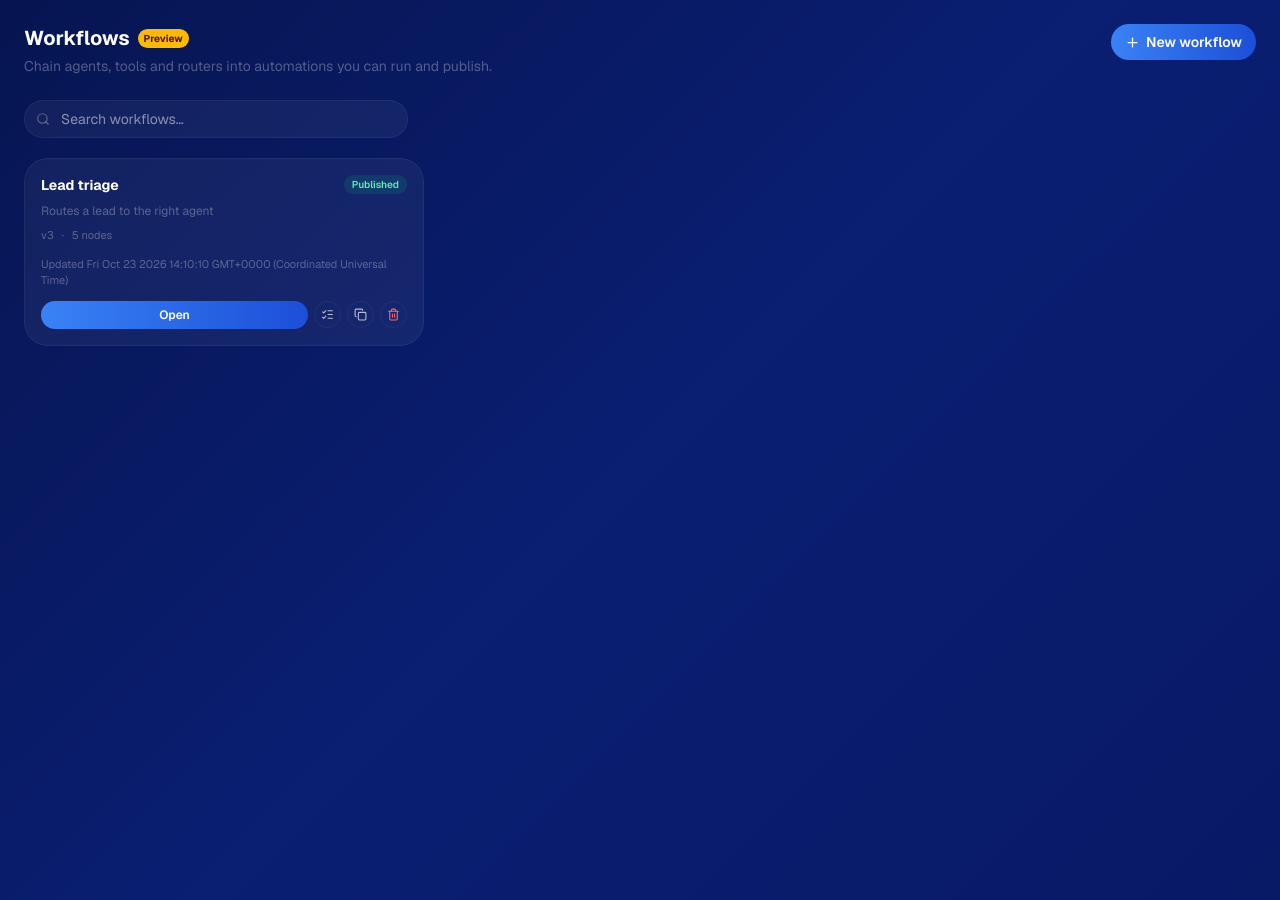
Test: WorkflowsPage › submits the create dialog with Enter from the name field
Expected: the heading "Lead triage" is shown, x1=41 y1=176 x2=119 y2=194
Click the button "New workflow" at (1184, 42), box x1=1111 y1=24 x2=1256 y2=60
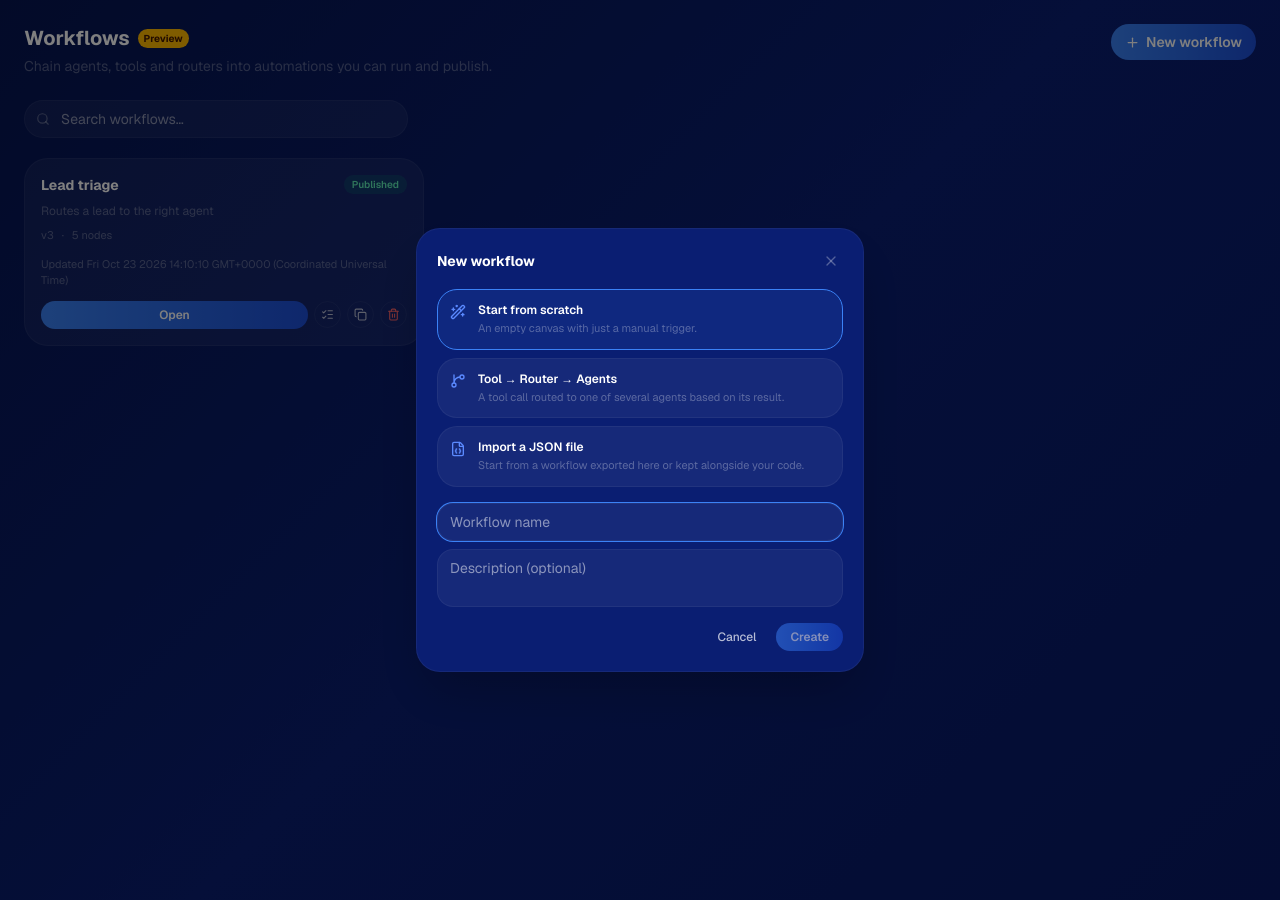
Type "Via Enter" into the field with placeholder "Workflow name" at (640, 522), box x1=437 y1=503 x2=843 y2=541
Then press Enter
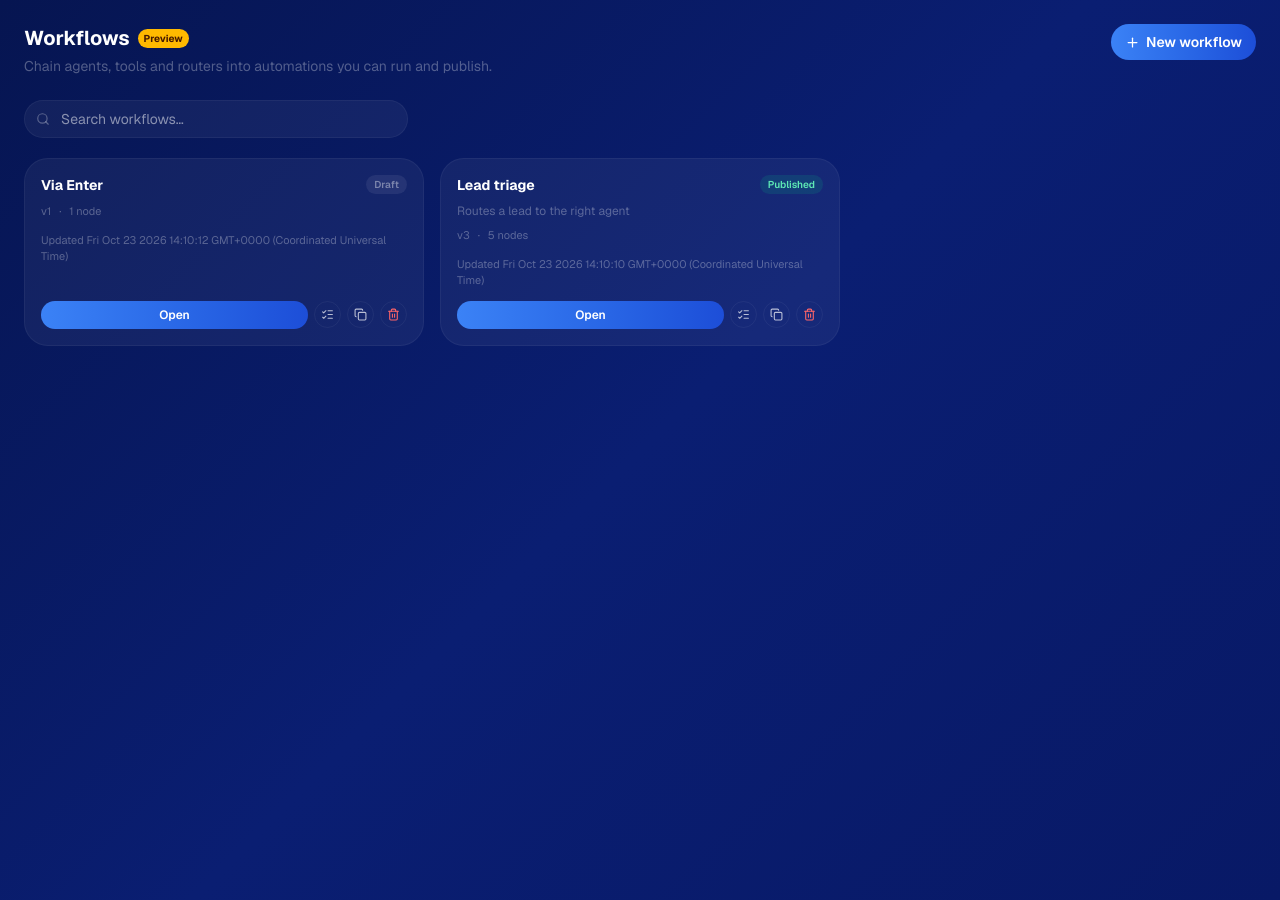
Result: the heading "Via Enter" is shown at x1=41 y1=176 x2=103 y2=194
